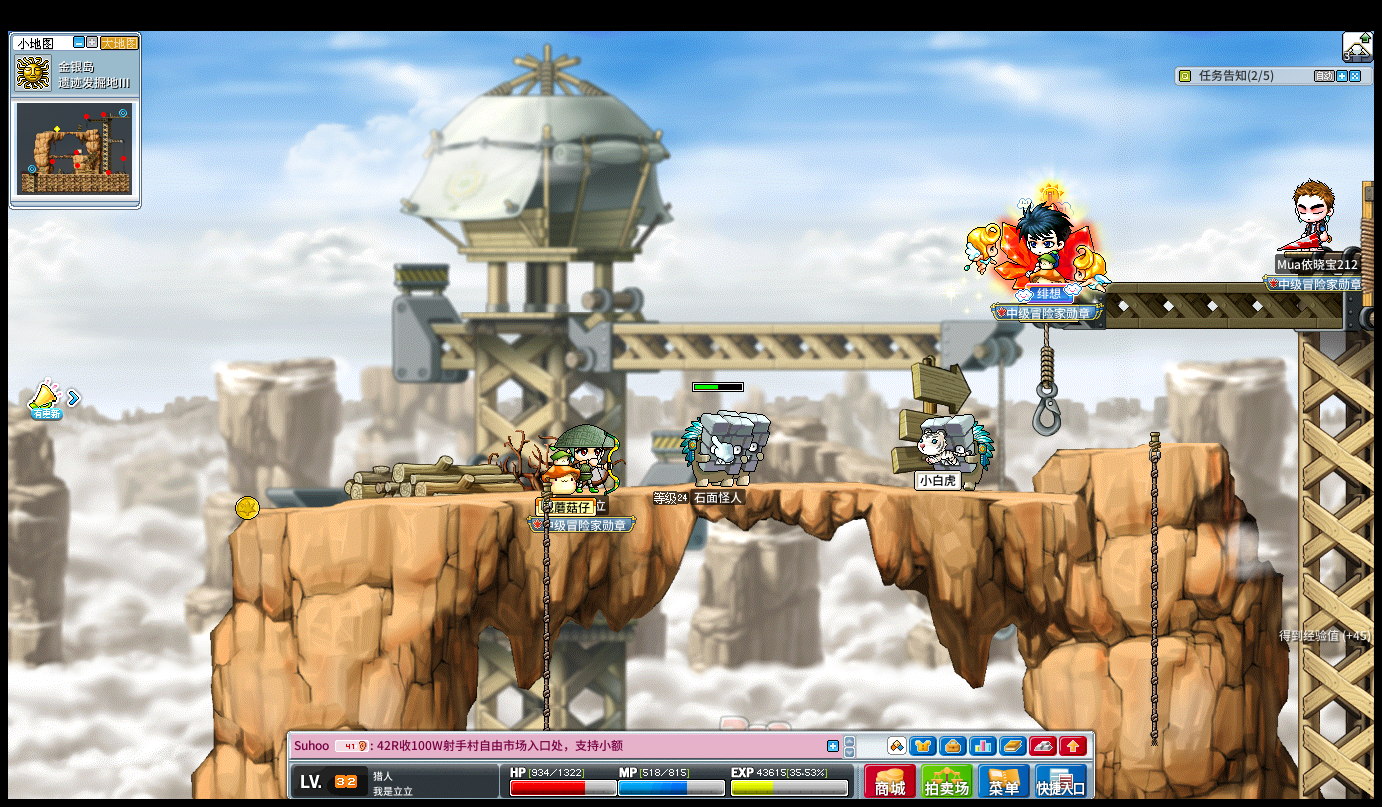floor: (210, 476, 1130, 509), (298, 478, 1084, 503), (1050, 437, 1225, 453), (1051, 441, 1229, 455)
monster: (680, 409, 770, 486), (920, 414, 994, 492), (948, 414, 994, 492)
rope: (1145, 426, 1161, 752), (539, 481, 551, 705), (1041, 324, 1052, 433)
